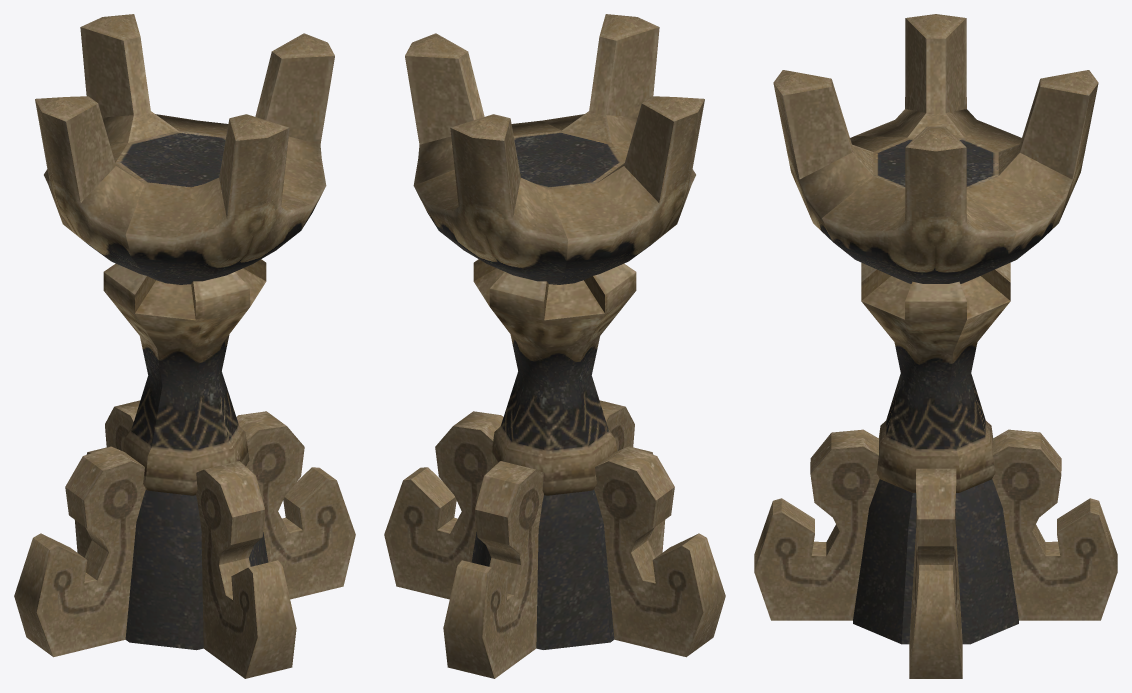
Rendered from BlueFlamePedestal.fbx.
3 views of the same model, side by side, from view 1: azimuth 30°, elevation 25°; view 2: azimuth 150°, elevation 25°; view 3: azimuth 270°, elevation 25° (orthographic).
Visible parts, largest first — view 1: BlueFlamePedestal; view 2: BlueFlamePedestal; view 3: BlueFlamePedestal.
Part boxes in pixels (<box>): BlueFlamePedestal: <box>14,14,355,678</box>; BlueFlamePedestal: <box>384,14,725,678</box>; BlueFlamePedestal: <box>754,14,1117,678</box>.
Bounding box in the file's own units: 105 × 171 × 105.
1 material, 1 textured.
